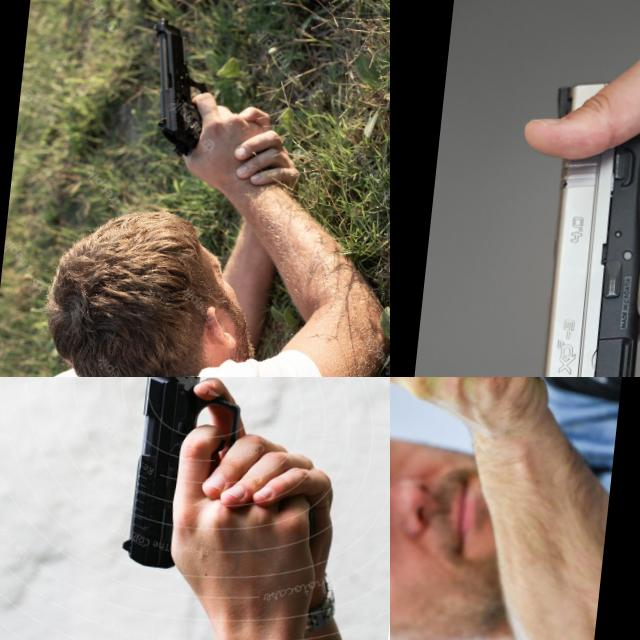handgun: (512, 49, 640, 377), (112, 377, 255, 579), (138, 15, 214, 162), (390, 377, 477, 488)
